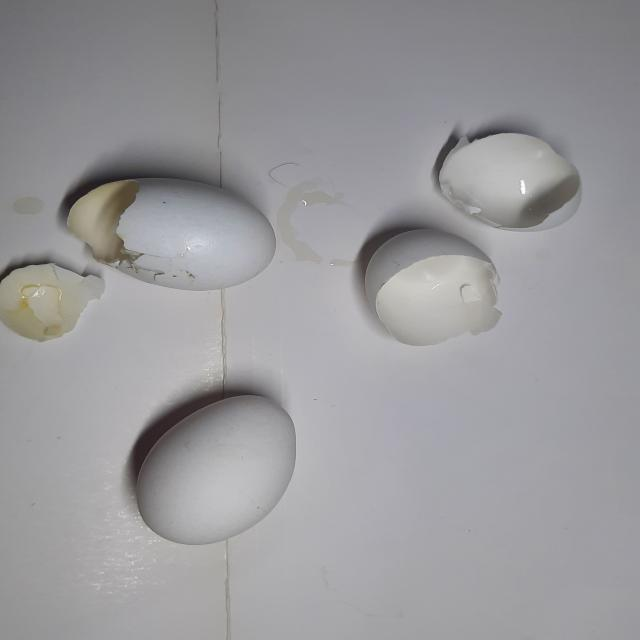egg shell: (0, 174, 283, 344), (132, 392, 300, 548), (362, 226, 505, 349), (434, 129, 586, 235)
